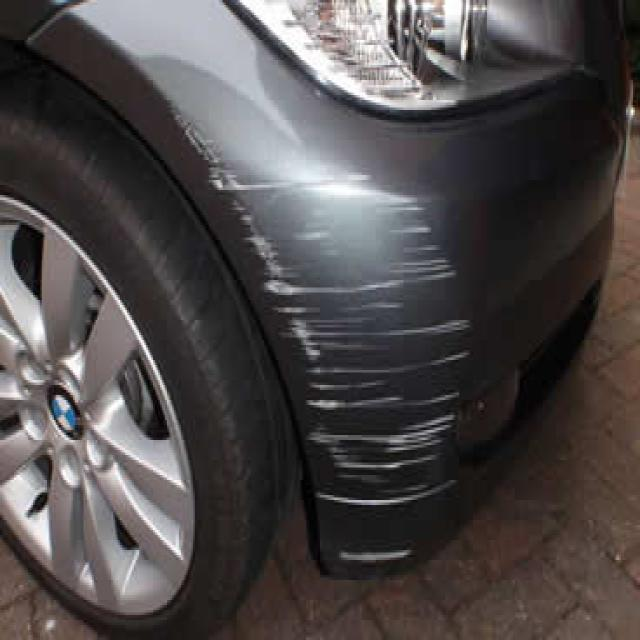Scratch: (212, 168, 470, 562)
